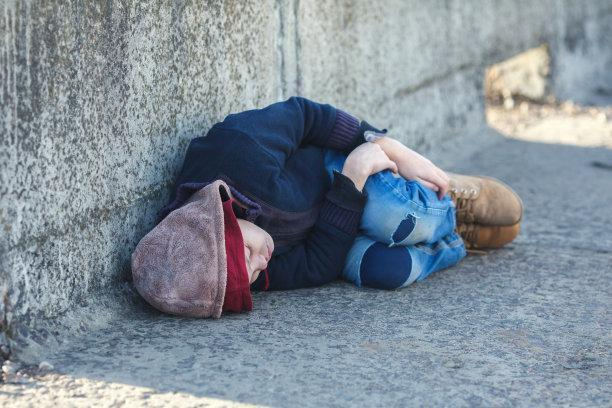Fall-Detected: (125, 94, 546, 309)
